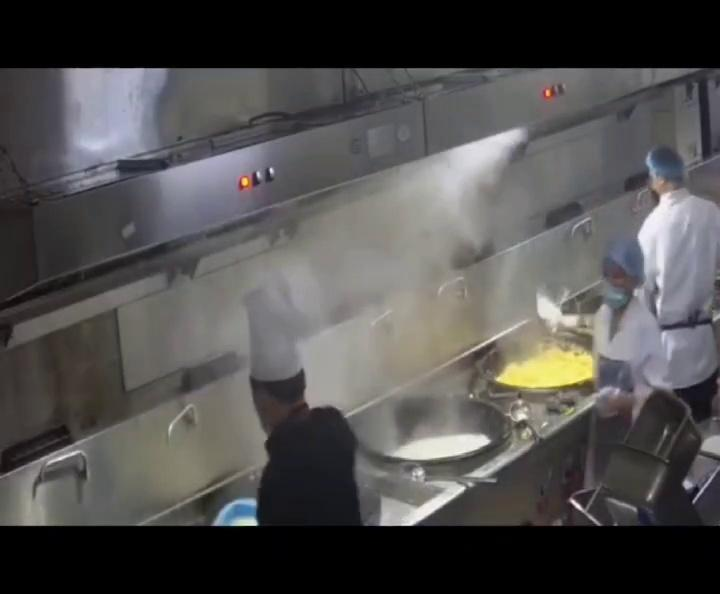gloves: (605, 237, 645, 279), (645, 146, 684, 182)
mask: (600, 279, 629, 308)
